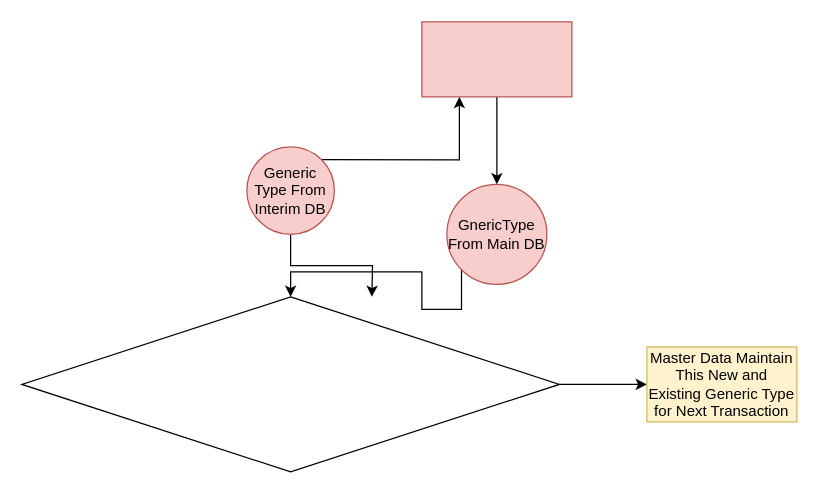
The diagram is 819 pixels wide and 494 high, and some of its shapes have lost their labels. Each missing label, with the box of its shape:
If Generic Type From Both Tables Not Match then Add New Generic Type To Main DB: (21, 296, 559, 472)
Process GenericMaster: (421, 21, 572, 97)
